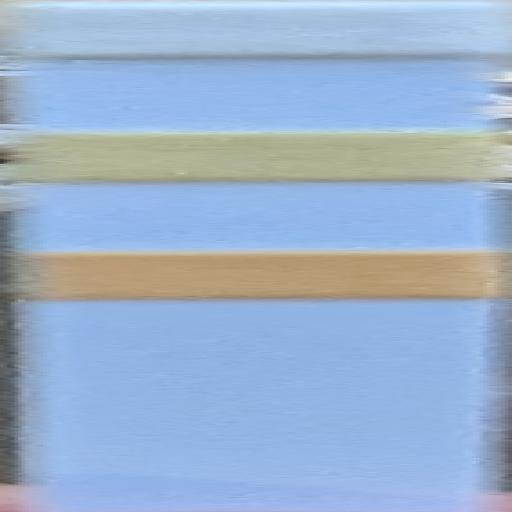pads: (0, 0, 512, 60), (0, 128, 512, 185), (0, 247, 512, 302)
